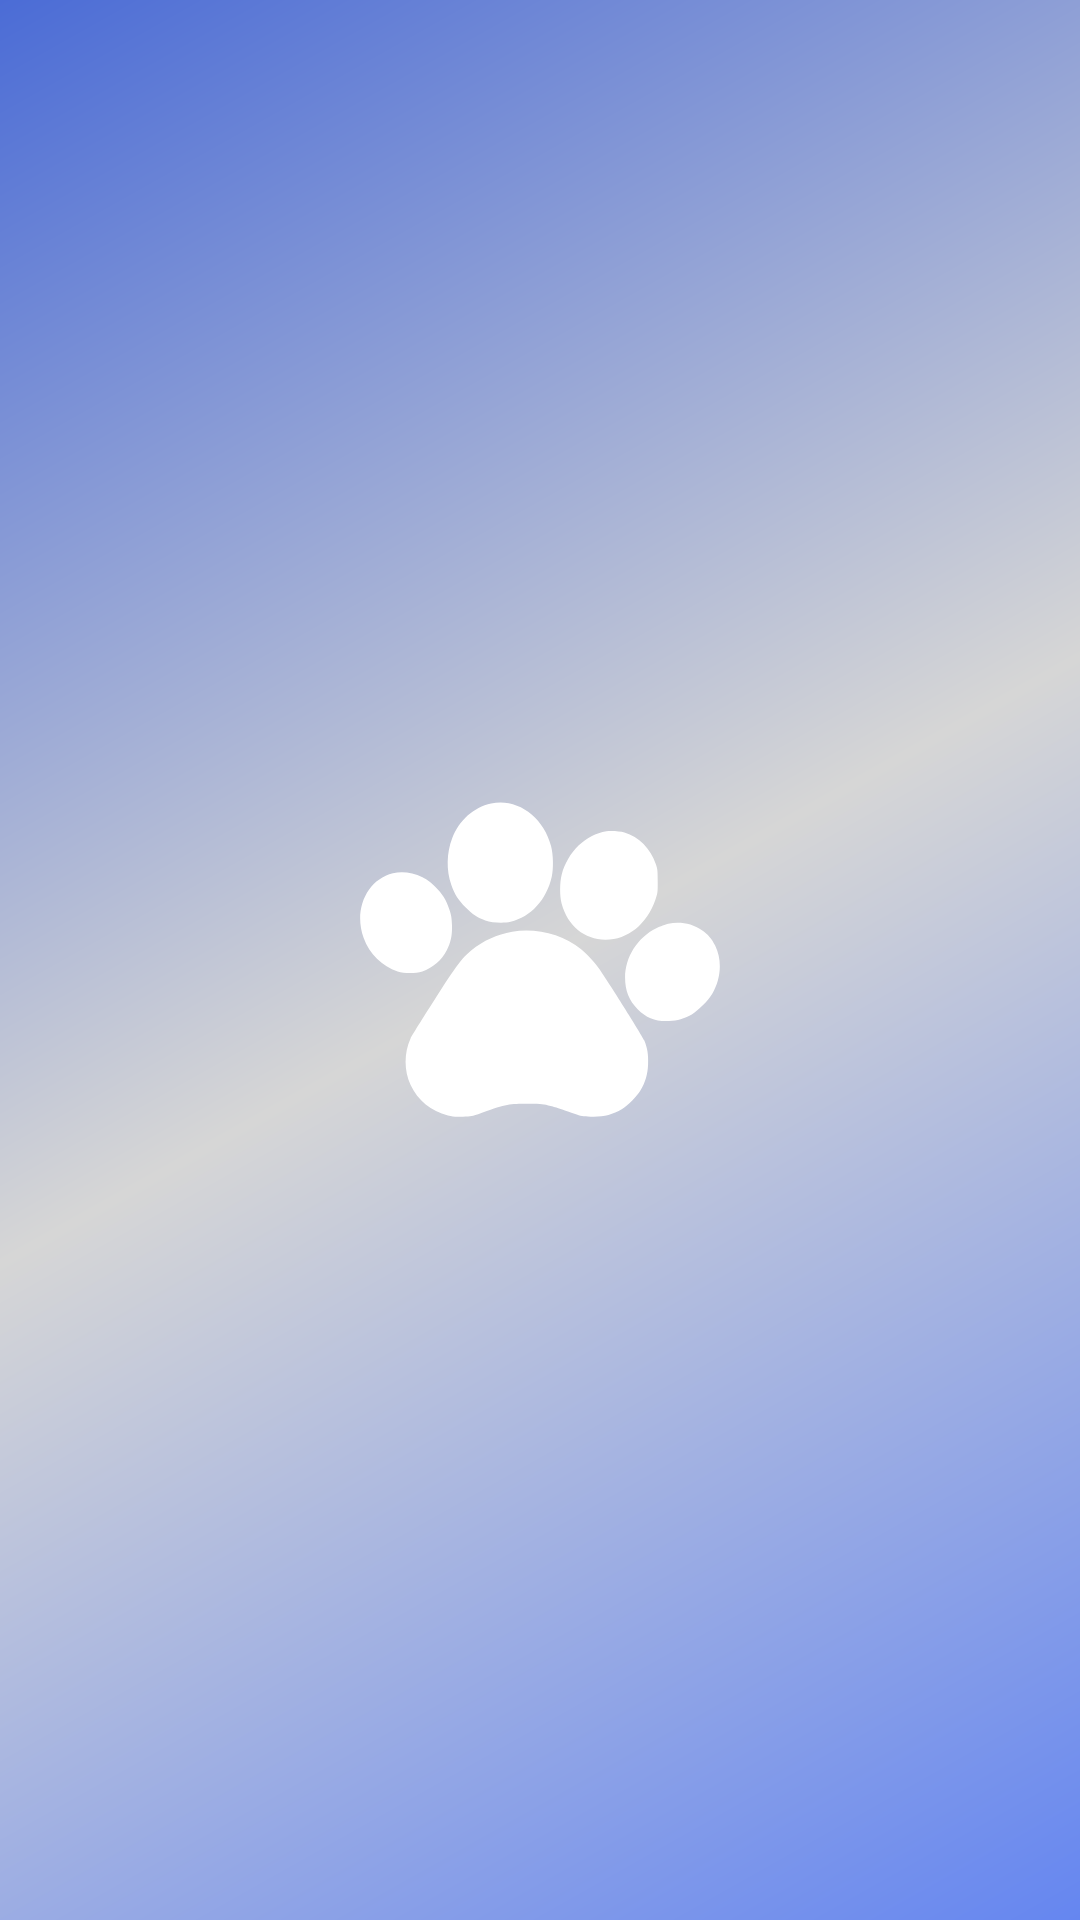

Screen size 1080w x 1920h. Icon name, then its box in pixels as bbox=[x1, y1, x2, y2]:
free pawprint: bbox=[360, 803, 720, 1117]
